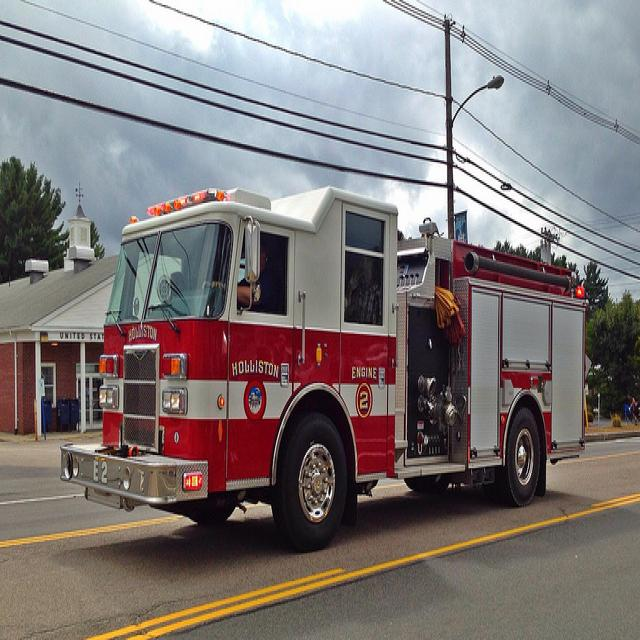Vehicle: (59, 184, 593, 554)
